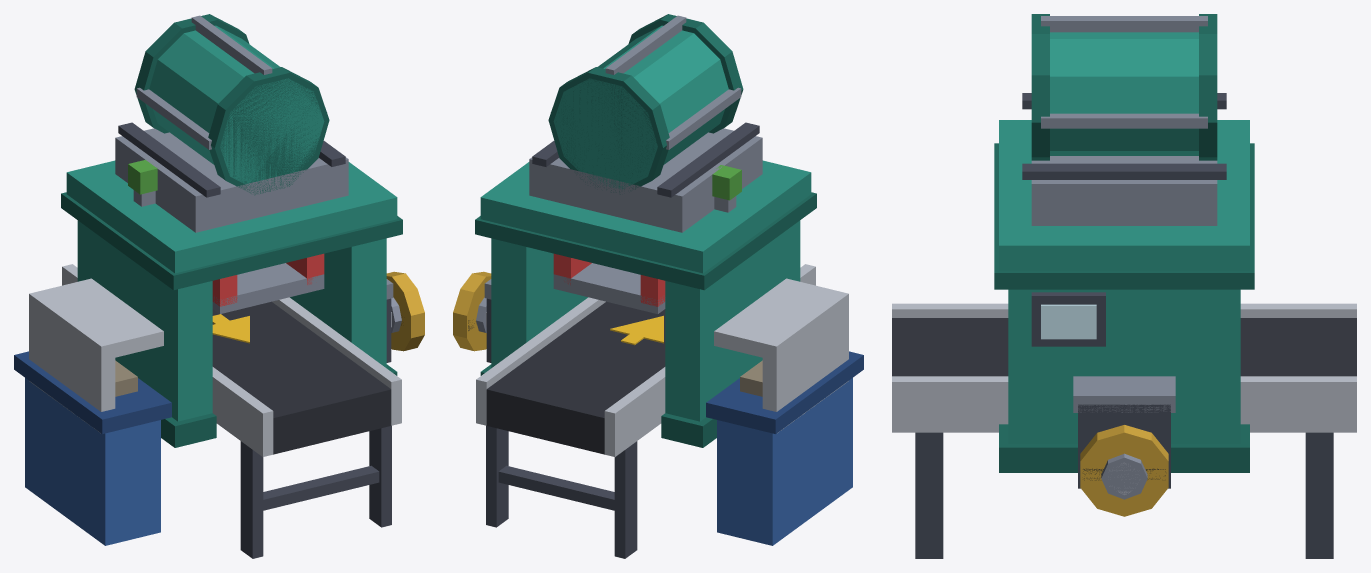
Rendered from sorter.glb.
3 views of the same model, side by side, from view 1: azimuth 30°, elevation 25°; view 2: azimuth 150°, elevation 25°; view 3: azimuth 270°, elevation 25° (orthographic). The views are drawn at different scales.
Visible parts, largest first — view 1: sorter, spin-y, spin-x; view 2: sorter, spin-y, spin-x; view 3: sorter, spin-y, spin-x.
Boxes of the visible parts, x1=… form: sorter: x1=14, y1=122, x2=402, y2=558; spin-y: x1=134, y1=14, x2=329, y2=195; spin-x: x1=386, y1=271, x2=424, y2=351; sorter: x1=475, y1=122, x2=863, y2=558; spin-y: x1=548, y1=14, x2=743, y2=194; spin-x: x1=453, y1=271, x2=491, y2=351; sorter: x1=892, y1=93, x2=1356, y2=558; spin-y: x1=1031, y1=14, x2=1217, y2=160; spin-x: x1=1080, y1=425, x2=1168, y2=516.
Size of the model in its own units: 1.02 by 1.19 by 1.
3 materials, 3 textured.
